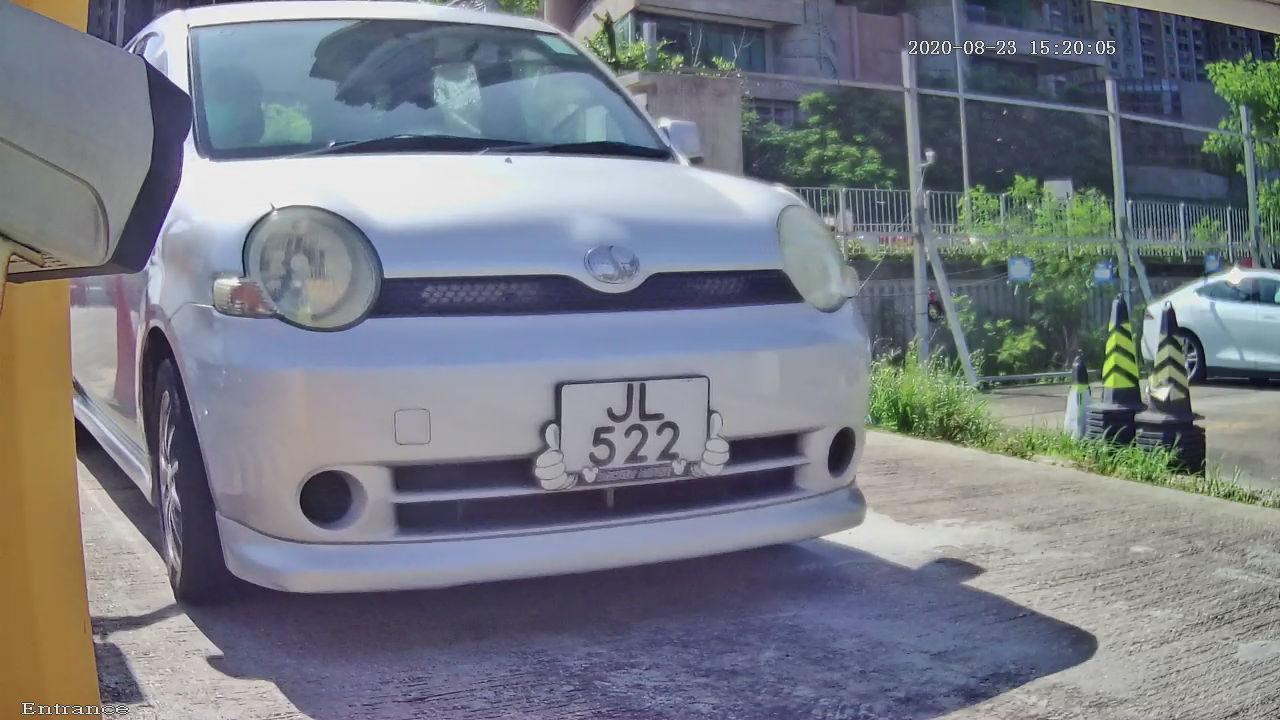Car: (23, 1, 949, 672)
License Plate: (526, 354, 738, 502)
